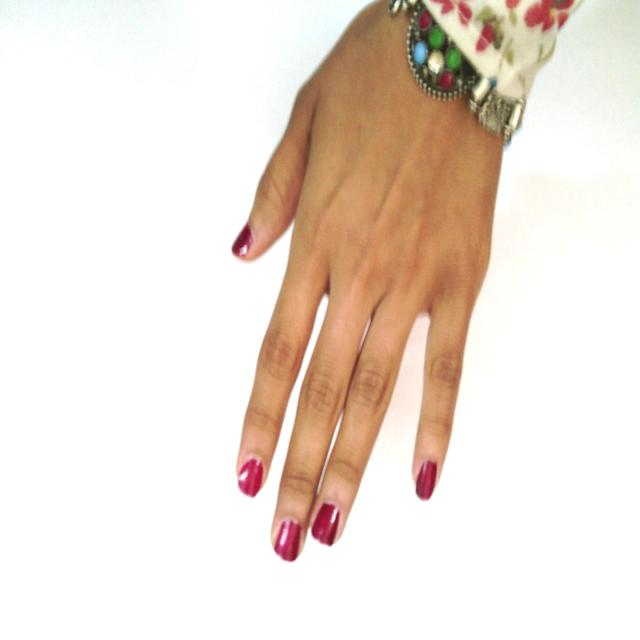hand: (228, 110, 469, 568)
